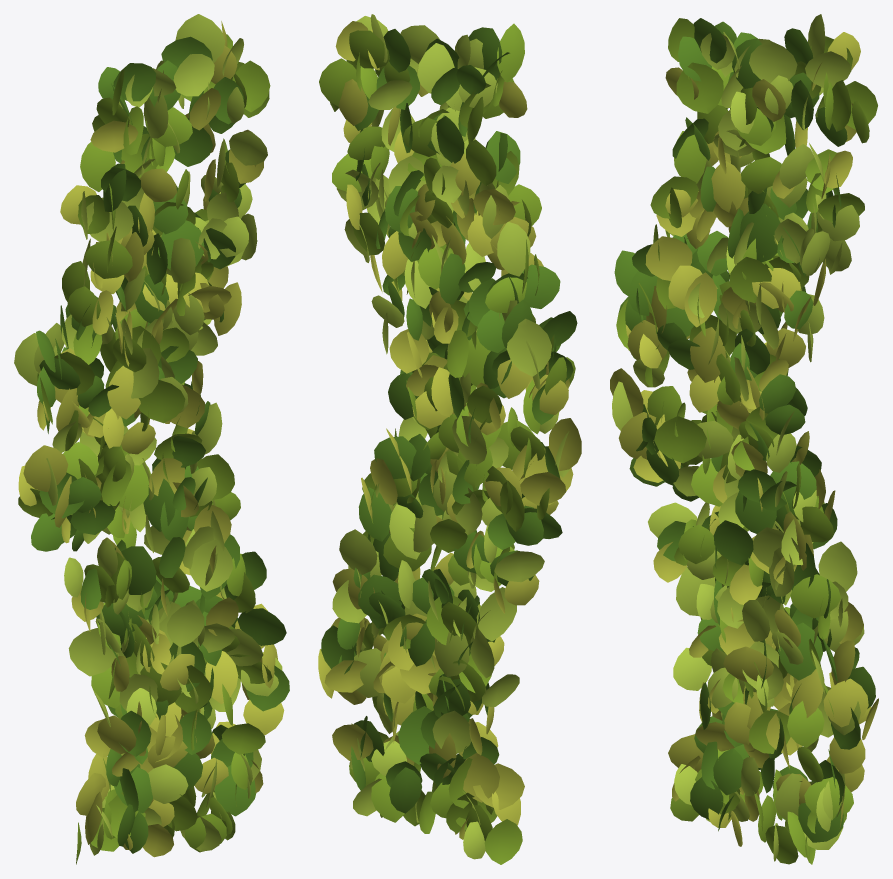
File: IvyColumn.fbx
3 views of the same model, side by side, from view 1: azimuth 30°, elevation 25°; view 2: azimuth 150°, elevation 25°; view 3: azimuth 330°, elevation 25° (orthographic). The views are drawn at different scales.
Visible parts, largest first — view 1: Dense climbing ivy; view 2: Dense climbing ivy; view 3: Dense climbing ivy.
Part boxes in pixels (x1,y1,x2,y2): Dense climbing ivy: (14,14,289,864); Dense climbing ivy: (318,14,581,864); Dense climbing ivy: (610,14,878,864).
Size of the model in its own units: 1.17 by 3.59 by 0.4332.
